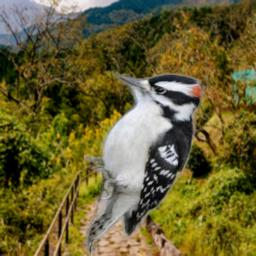Woodpecker: (84, 65, 214, 255)
